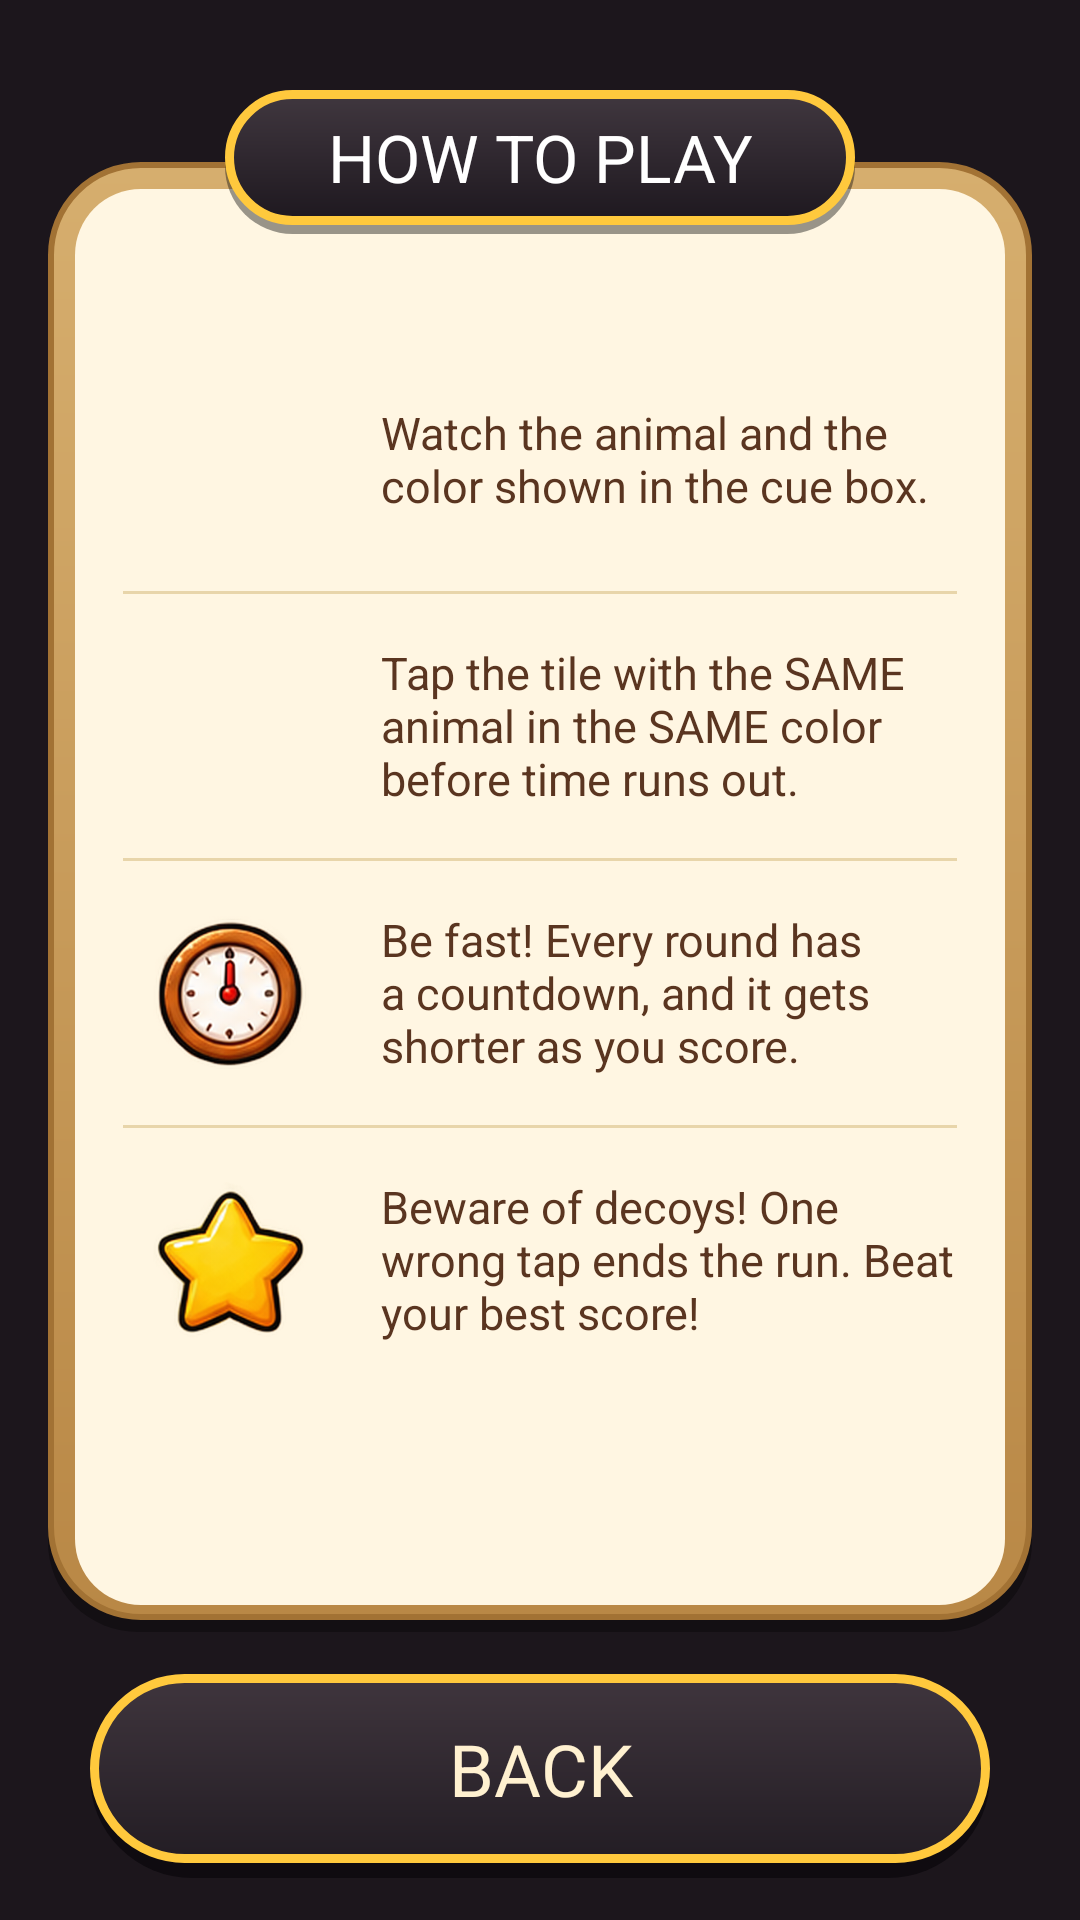

Screen size 1080×1920. Icon name, then its box in pixels as (x1, y1, x2, y2):
star: (158, 1191, 304, 1333)
